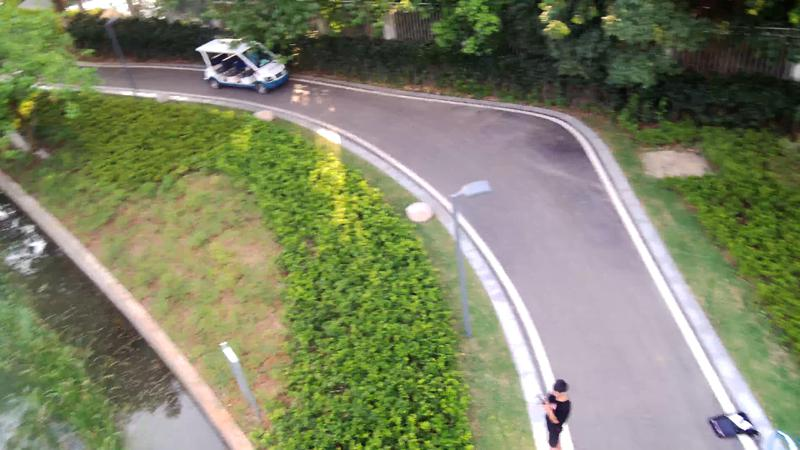passerby: (538, 378, 571, 450)
